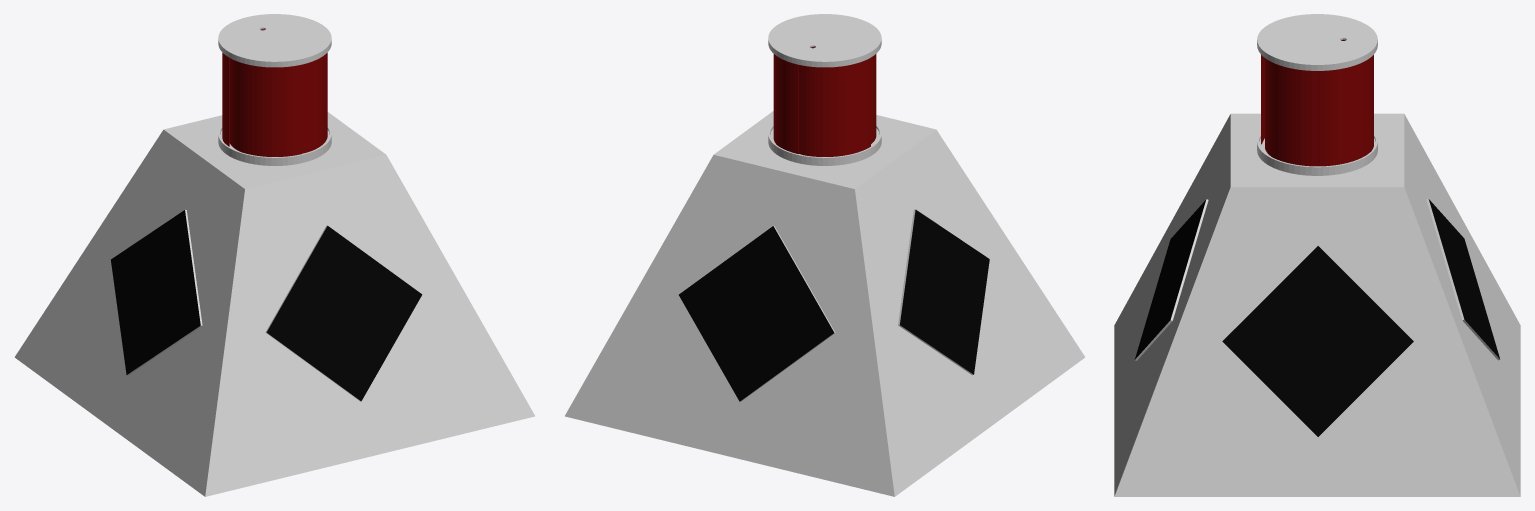
File: ColourIndicatorRed.dae
3 views of the same model, side by side, from view 1: azimuth 30°, elevation 25°; view 2: azimuth 150°, elevation 25°; view 3: azimuth 270°, elevation 25° (orthographic). The views are drawn at different scales.
Visible parts, largest first — view 1: ColourIndicatorGreenAssembly; view 2: ColourIndicatorGreenAssembly; view 3: ColourIndicatorGreenAssembly.
Boxes of the visible parts, x1=… form: ColourIndicatorGreenAssembly: x1=14, y1=14, x2=534, y2=496; ColourIndicatorGreenAssembly: x1=565, y1=14, x2=1085, y2=496; ColourIndicatorGreenAssembly: x1=1114, y1=14, x2=1520, y2=496.
Size of the model in its own units: 430 by 430 by 434.
